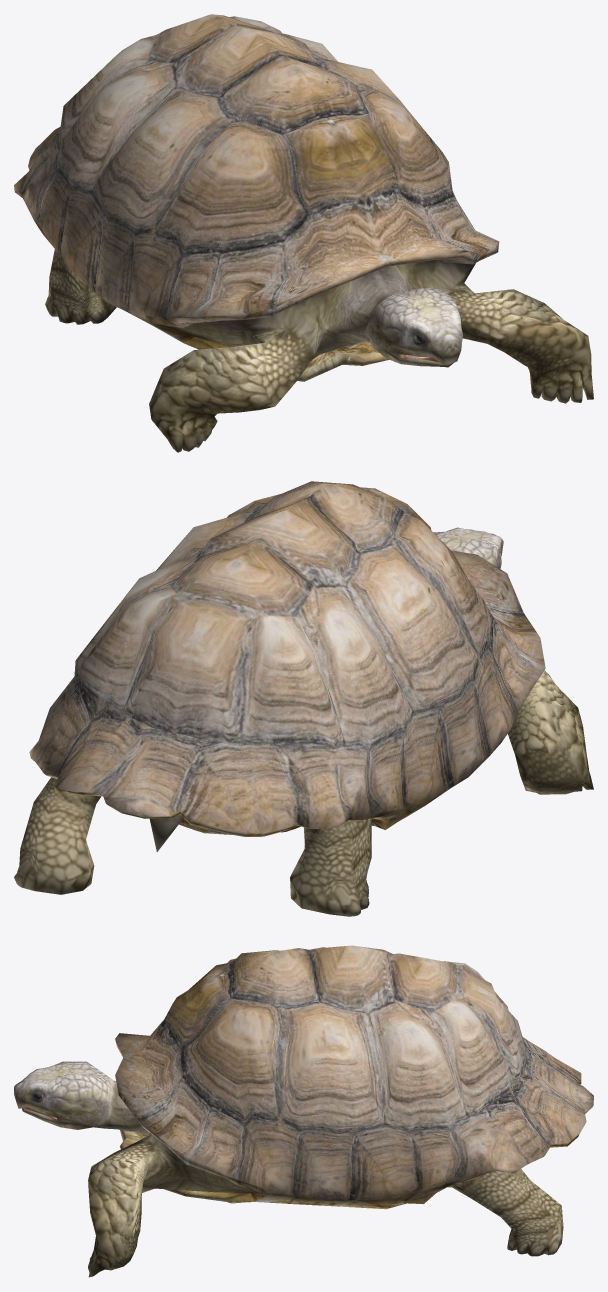
The model's file is TestuggineMarginata.glb.
3 views of the same model, one above another, from view 1: azimuth 30°, elevation 25°; view 2: azimuth 150°, elevation 25°; view 3: azimuth 270°, elevation 25° (orthographic). The views are drawn at different scales.
Visible parts, largest first — view 1: Tartaruga; view 2: Tartaruga; view 3: Tartaruga.
Boxes of the visible parts, <box> form: Tartaruga: <box>14,14,593,452</box>; Tartaruga: <box>14,481,593,916</box>; Tartaruga: <box>14,945,593,1277</box>.
Bounding box in the file's own units: 0.5497 × 0.4039 × 0.8283.
Materials: 1 (1 with a texture image).
